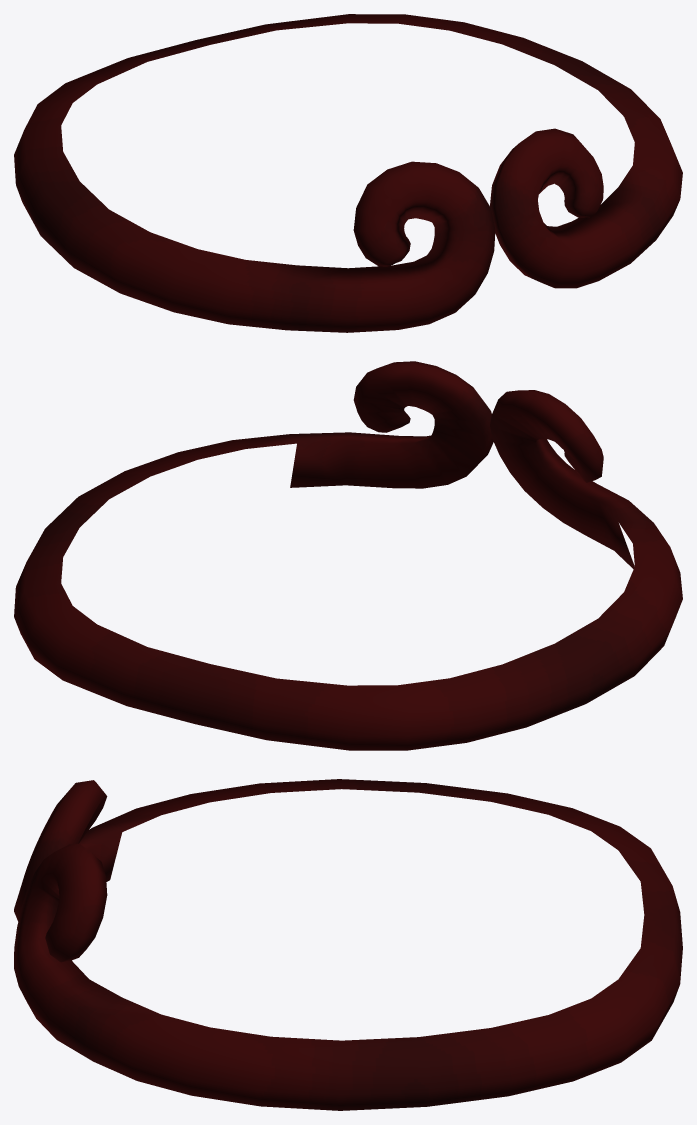
File: M_HeadringC.glb
The picture shows the model from 3 angles, top to bottom: view 1: azimuth 30°, elevation 25°; view 2: azimuth 150°, elevation 25°; view 3: azimuth 270°, elevation 25°; orthographic projection. The views are drawn at different scales.
Visible parts, largest first — view 1: SM_Headring; view 2: SM_Headring; view 3: SM_Headring.
Boxes of the visible parts, x1=… form: SM_Headring: x1=14, y1=14, x2=682, y2=332; SM_Headring: x1=14, y1=361, x2=682, y2=750; SM_Headring: x1=14, y1=779, x2=682, y2=1110.
Size of the model in its own units: 1.2 by 0.2865 by 1.15.
Materials: 1 (1 with a texture image).
